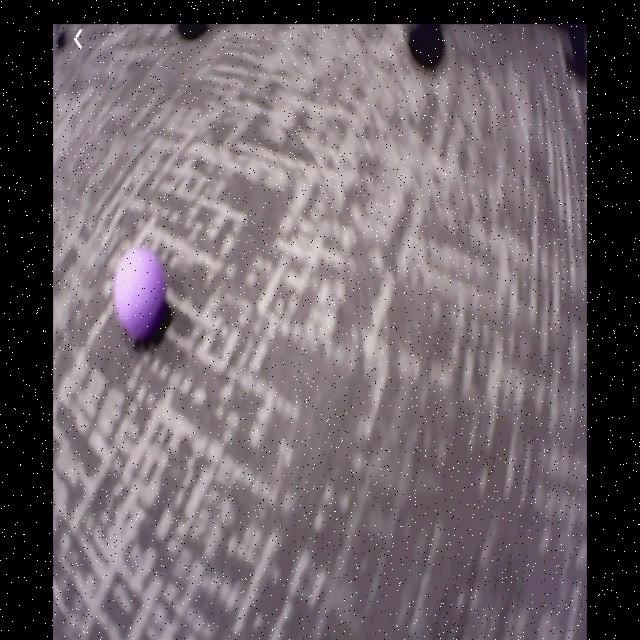ball: (112, 248, 164, 336)
